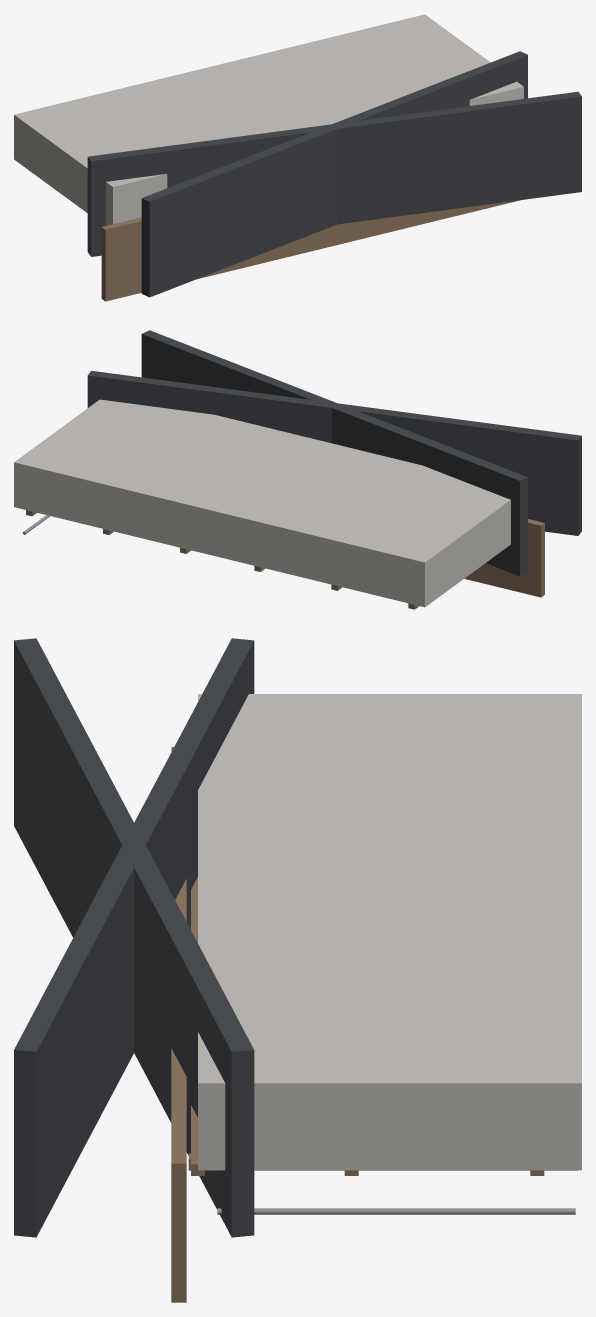
File: SM_Yilan_Historic_Wayo_Facade_HQ.glb
The picture shows the model from 3 angles, top to bottom: view 1: azimuth 30°, elevation 25°; view 2: azimuth 150°, elevation 25°; view 3: azimuth 270°, elevation 25°; orthographic projection. The views are drawn at different scales.
Visible parts, largest first — view 1: wall, roof_right, roof_left, deep_eave; view 2: wall, roof_left, roof_right, deep_eave; view 3: wall, roof_left, roof_right, deep_eave, rain_chain, beam_3.0.
Part boxes in pixels (x1=…): wall: x1=14, y1=14, x2=523, y2=225; roof_right: x1=87, y1=91, x2=581, y2=256; roof_left: x1=141, y1=51, x2=527, y2=297; deep_eave: x1=101, y1=200, x2=519, y2=301; wall: x1=14, y1=399, x2=510, y2=607; roof_left: x1=87, y1=370, x2=581, y2=535; roof_right: x1=141, y1=330, x2=527, y2=576; deep_eave: x1=464, y1=519, x2=544, y2=597; wall: x1=198, y1=694, x2=581, y2=1170; roof_left: x1=14, y1=638, x2=254, y2=1237; roof_right: x1=14, y1=638, x2=254, y2=1237; deep_eave: x1=171, y1=747, x2=186, y2=1302; rain_chain: x1=217, y1=1208, x2=575, y2=1214; beam_3.0: x1=191, y1=877, x2=204, y2=1175.
Size of the model in its own units: 7.7 by 2.15 by 4.44.
